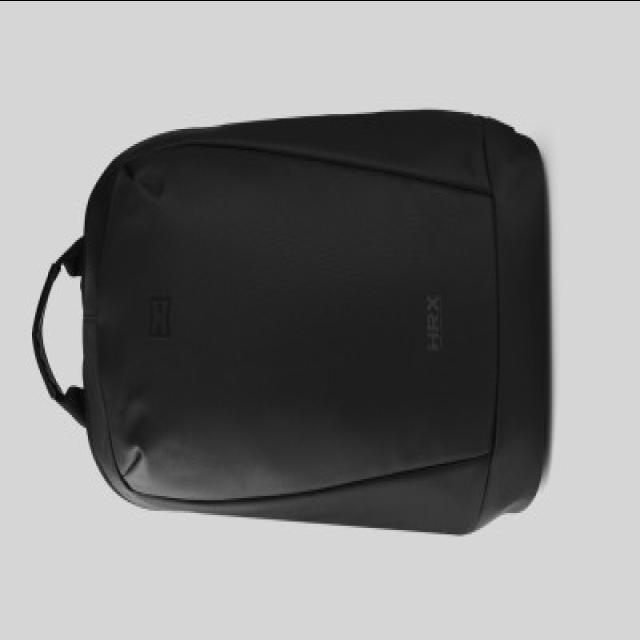backpack: (32, 110, 550, 536)
